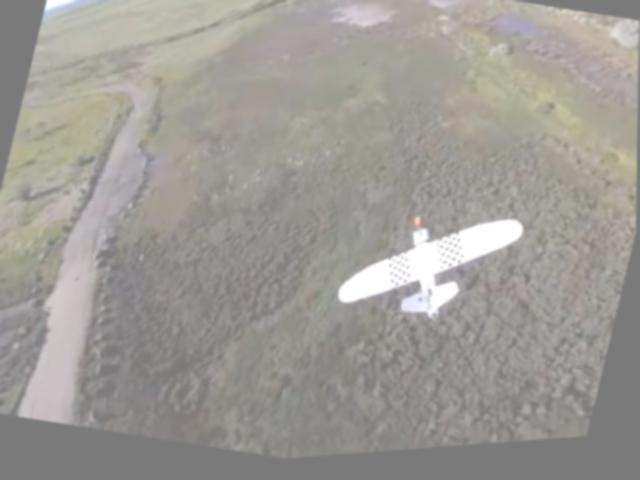uav: (336, 183, 533, 348)
